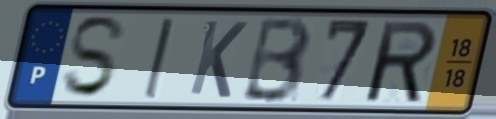7: (320, 16, 375, 105)
B: (238, 14, 315, 106)
I: (140, 15, 176, 102)
K: (186, 17, 251, 102)
R: (365, 18, 440, 105)
S: (59, 14, 129, 101)
